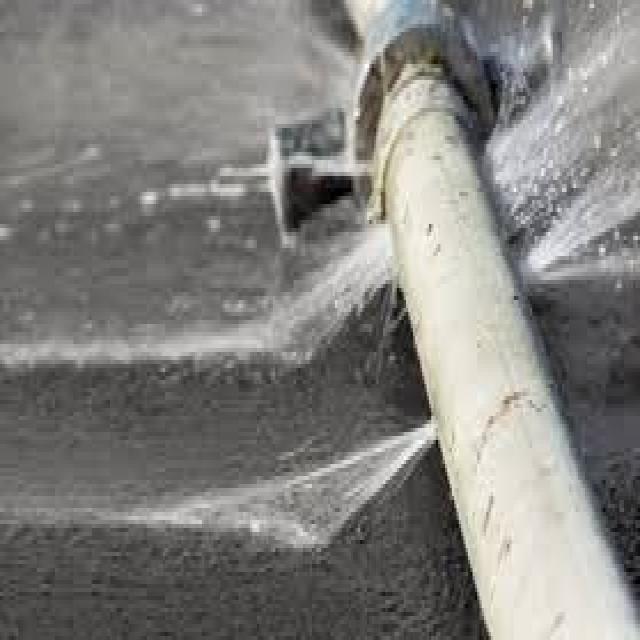leak: (0, 0, 437, 566), (473, 0, 639, 300)
